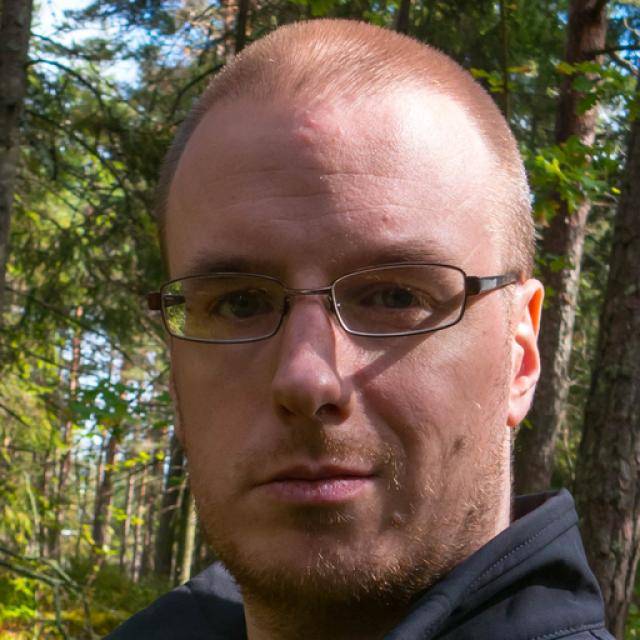Acne: (290, 114, 335, 151)
